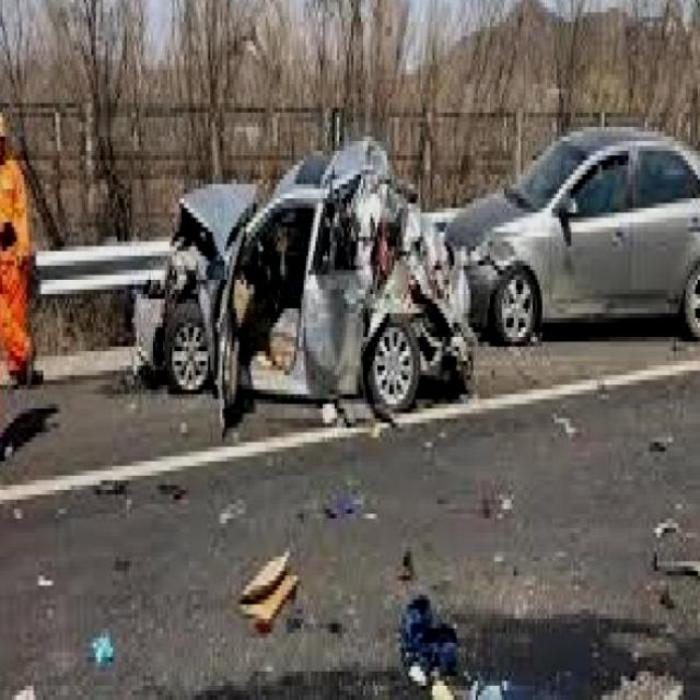Accident: (141, 143, 512, 437)
